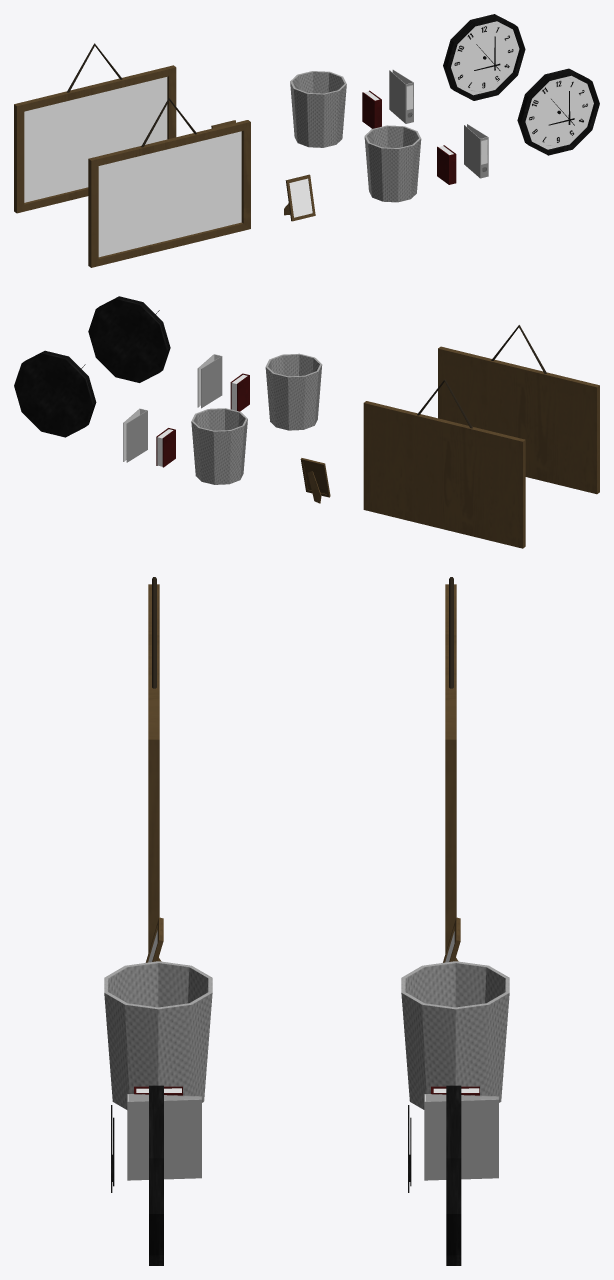
Rendered from Vrac-CadreDocHorlogeCorbeille.fbx.
3 renders of one model, top to bottom at view 1: azimuth 30°, elevation 25°; view 2: azimuth 150°, elevation 25°; view 3: azimuth 270°, elevation 25°, orthographic. The views are drawn at different scales.
Parts seen in each view (by area): view 1: Tableau, Tableau.001, horloge.001, horloge, Corbeille, Corbeille.001, Cadre, Classeur.001, Classeur, Livres, Livres.001; view 2: Tableau.001, Tableau, horloge, horloge.001, Corbeille.001, Corbeille, Classeur, Classeur.001, Cadre.001, Livres.001, Livres; view 3: Corbeille, Corbeille.001, Classeur.001, Classeur, Tableau.001, Tableau, horloge.001, horloge.
Part boxes in pixels (x1,y1,x2,y2): Tableau: (88,98,250,267); Tableau.001: (14,43,176,213); horloge.001: (443,14,525,100); horloge: (517,68,599,155); Corbeille: (364,125,421,202); Corbeille.001: (290,71,346,147); Cadre: (284,174,315,221); Classeur.001: (389,69,413,123); Classeur: (464,124,488,178); Livres: (437,145,456,184); Livres.001: (362,90,381,128); Tableau.001: (363,379,525,548); Tableau: (438,325,599,494); horloge: (88,296,170,382); horloge.001: (14,350,96,437); Corbeille.001: (191,408,247,484); Corbeille: (265,353,322,430); Classeur: (197,354,222,408); Classeur.001: (123,408,147,462); Cadre.001: (300,458,330,503); Livres.001: (156,428,175,467); Livres: (230,373,249,411); Corbeille: (104,961,212,1109); Corbeille.001: (401,961,509,1109); Classeur.001: (424,1094,498,1180); Classeur: (127,1094,201,1180); Tableau.001: (445,577,456,953); Tableau: (148,577,159,952); horloge.001: (446,1085,461,1265); horloge: (149,1085,163,1265).
Size of the model in its own units: 1291 by 365 by 447.
